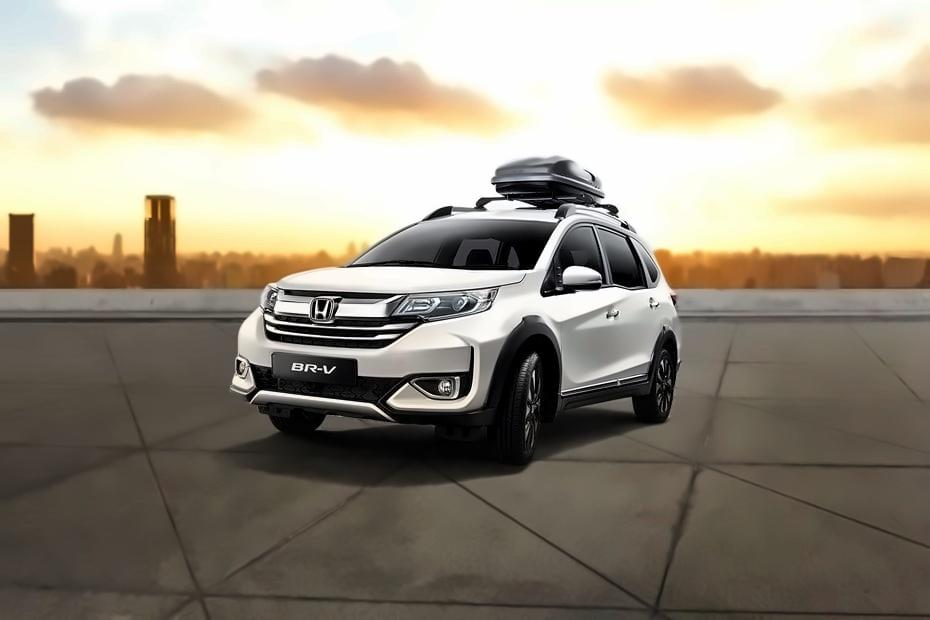Car hood: (268, 267, 534, 294)
Fender - -F-L-: (483, 260, 565, 413)
Fender - -R-L-: (645, 264, 685, 391)
Front bumper: (228, 296, 534, 425)
Headlight - -L-: (393, 284, 499, 319)
Headlight - -R-: (258, 281, 283, 319)
Passenger-s door - -F-L-: (540, 207, 628, 409)
Passenger-s door - -R-L-: (585, 205, 661, 410)
Side bumper - -L-: (547, 344, 662, 422)
Side mirror - -L-: (548, 267, 605, 295)
